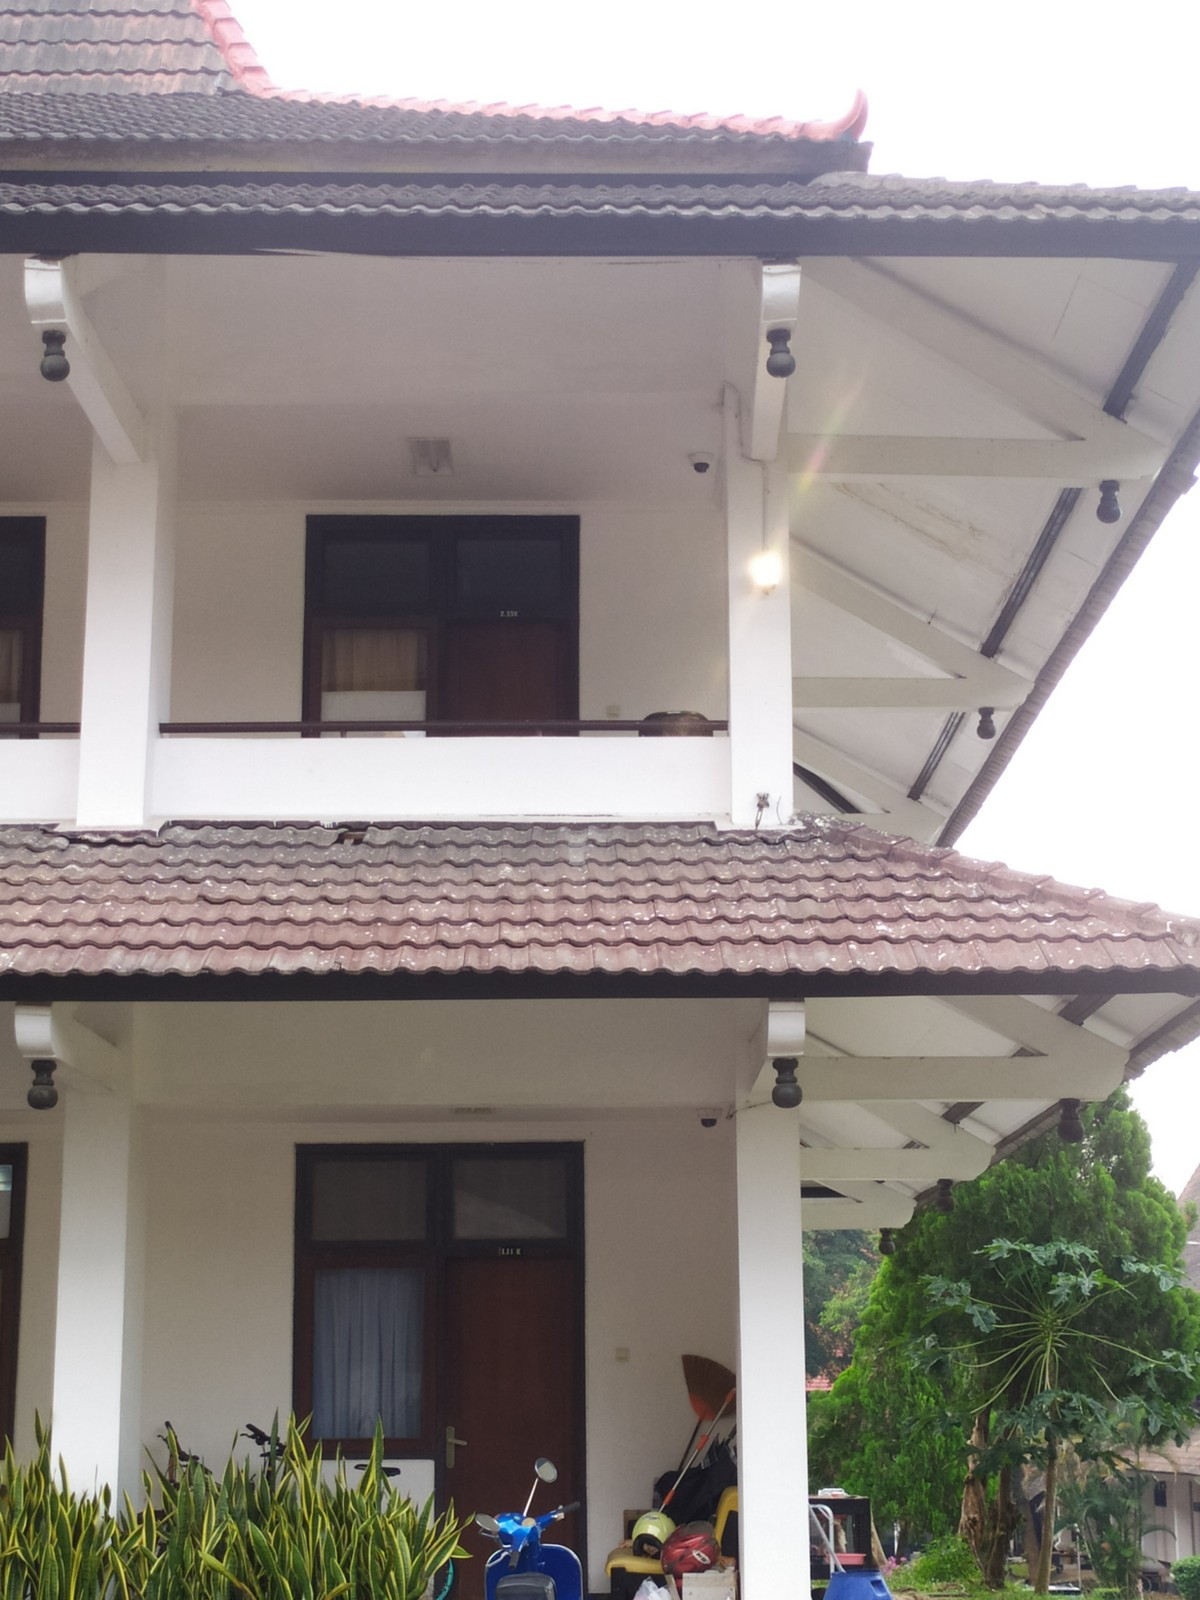concrete beam: (770, 420, 1089, 496), (787, 1041, 1060, 1107), (780, 663, 967, 722), (787, 1136, 942, 1191)
concrete column: (725, 1062, 823, 1596), (44, 1049, 156, 1511), (73, 401, 187, 844), (710, 375, 808, 829)
